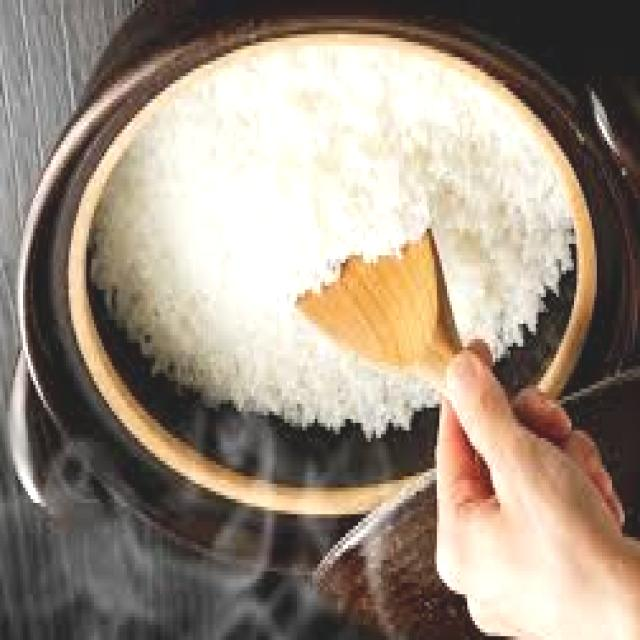nasi: (91, 63, 570, 438)
